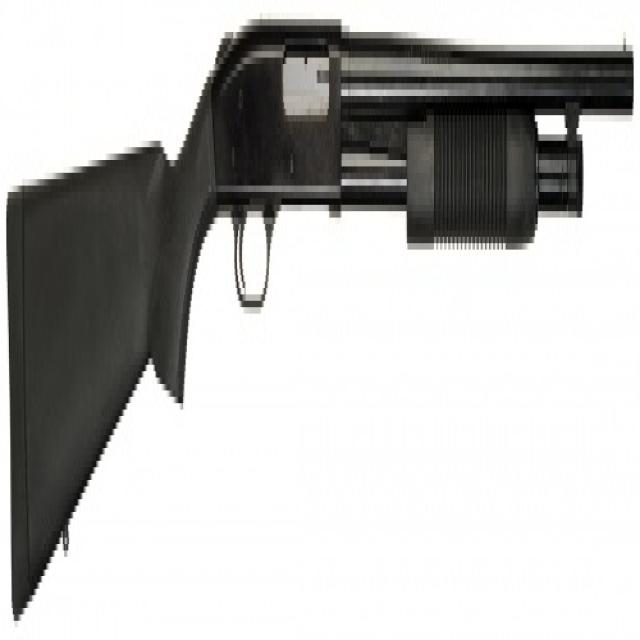rifle: (1, 11, 639, 640)
